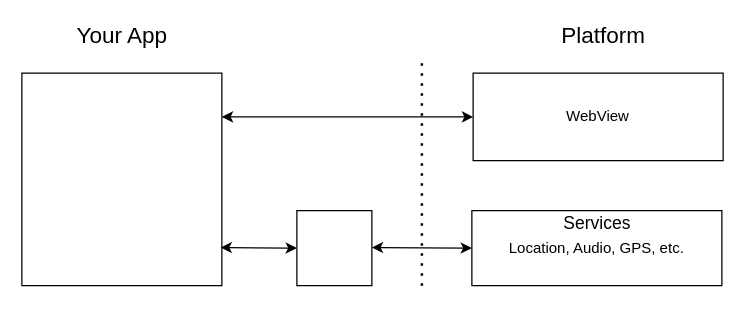
The diagram is 745 pixels wide and 309 high, and some of its shapes have lost their labels. The shapes that lost their labels are listed below. From the top down, each one's box as (x1, y1, x2, y2) in pixels, then its label:
(21, 72, 222, 286): JavaScript
(296, 209, 372, 286): Bridge
